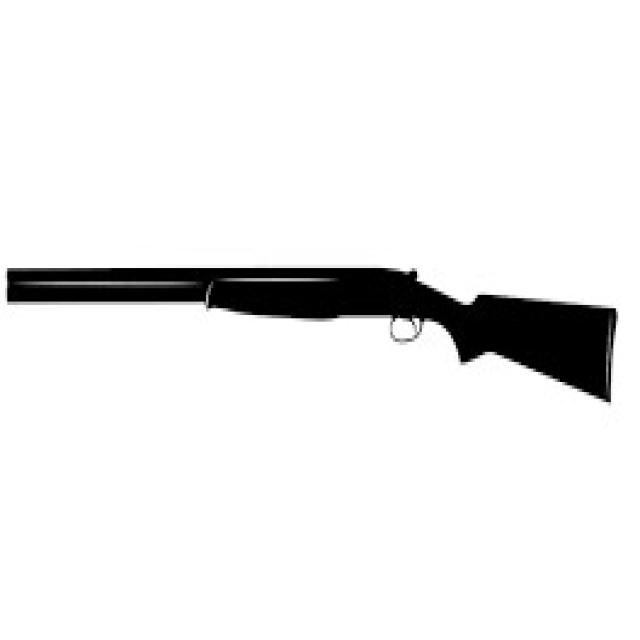rifle: (3, 257, 622, 411)
